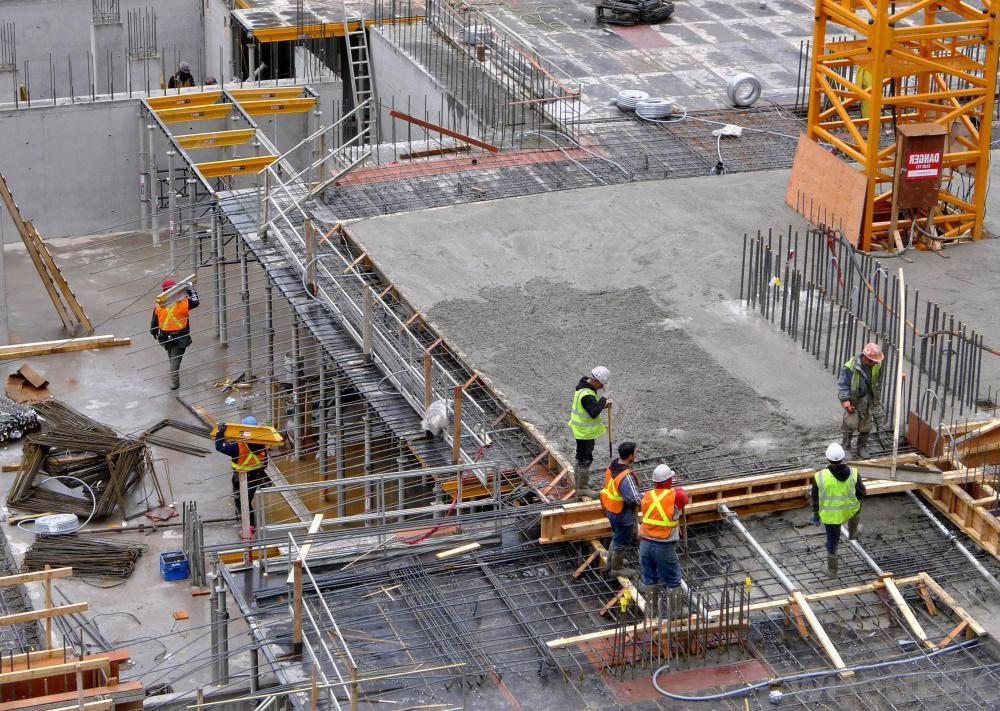person: (806, 439, 872, 573), (147, 271, 208, 397), (636, 456, 691, 594), (570, 355, 616, 501), (605, 435, 647, 581), (842, 330, 886, 464)
